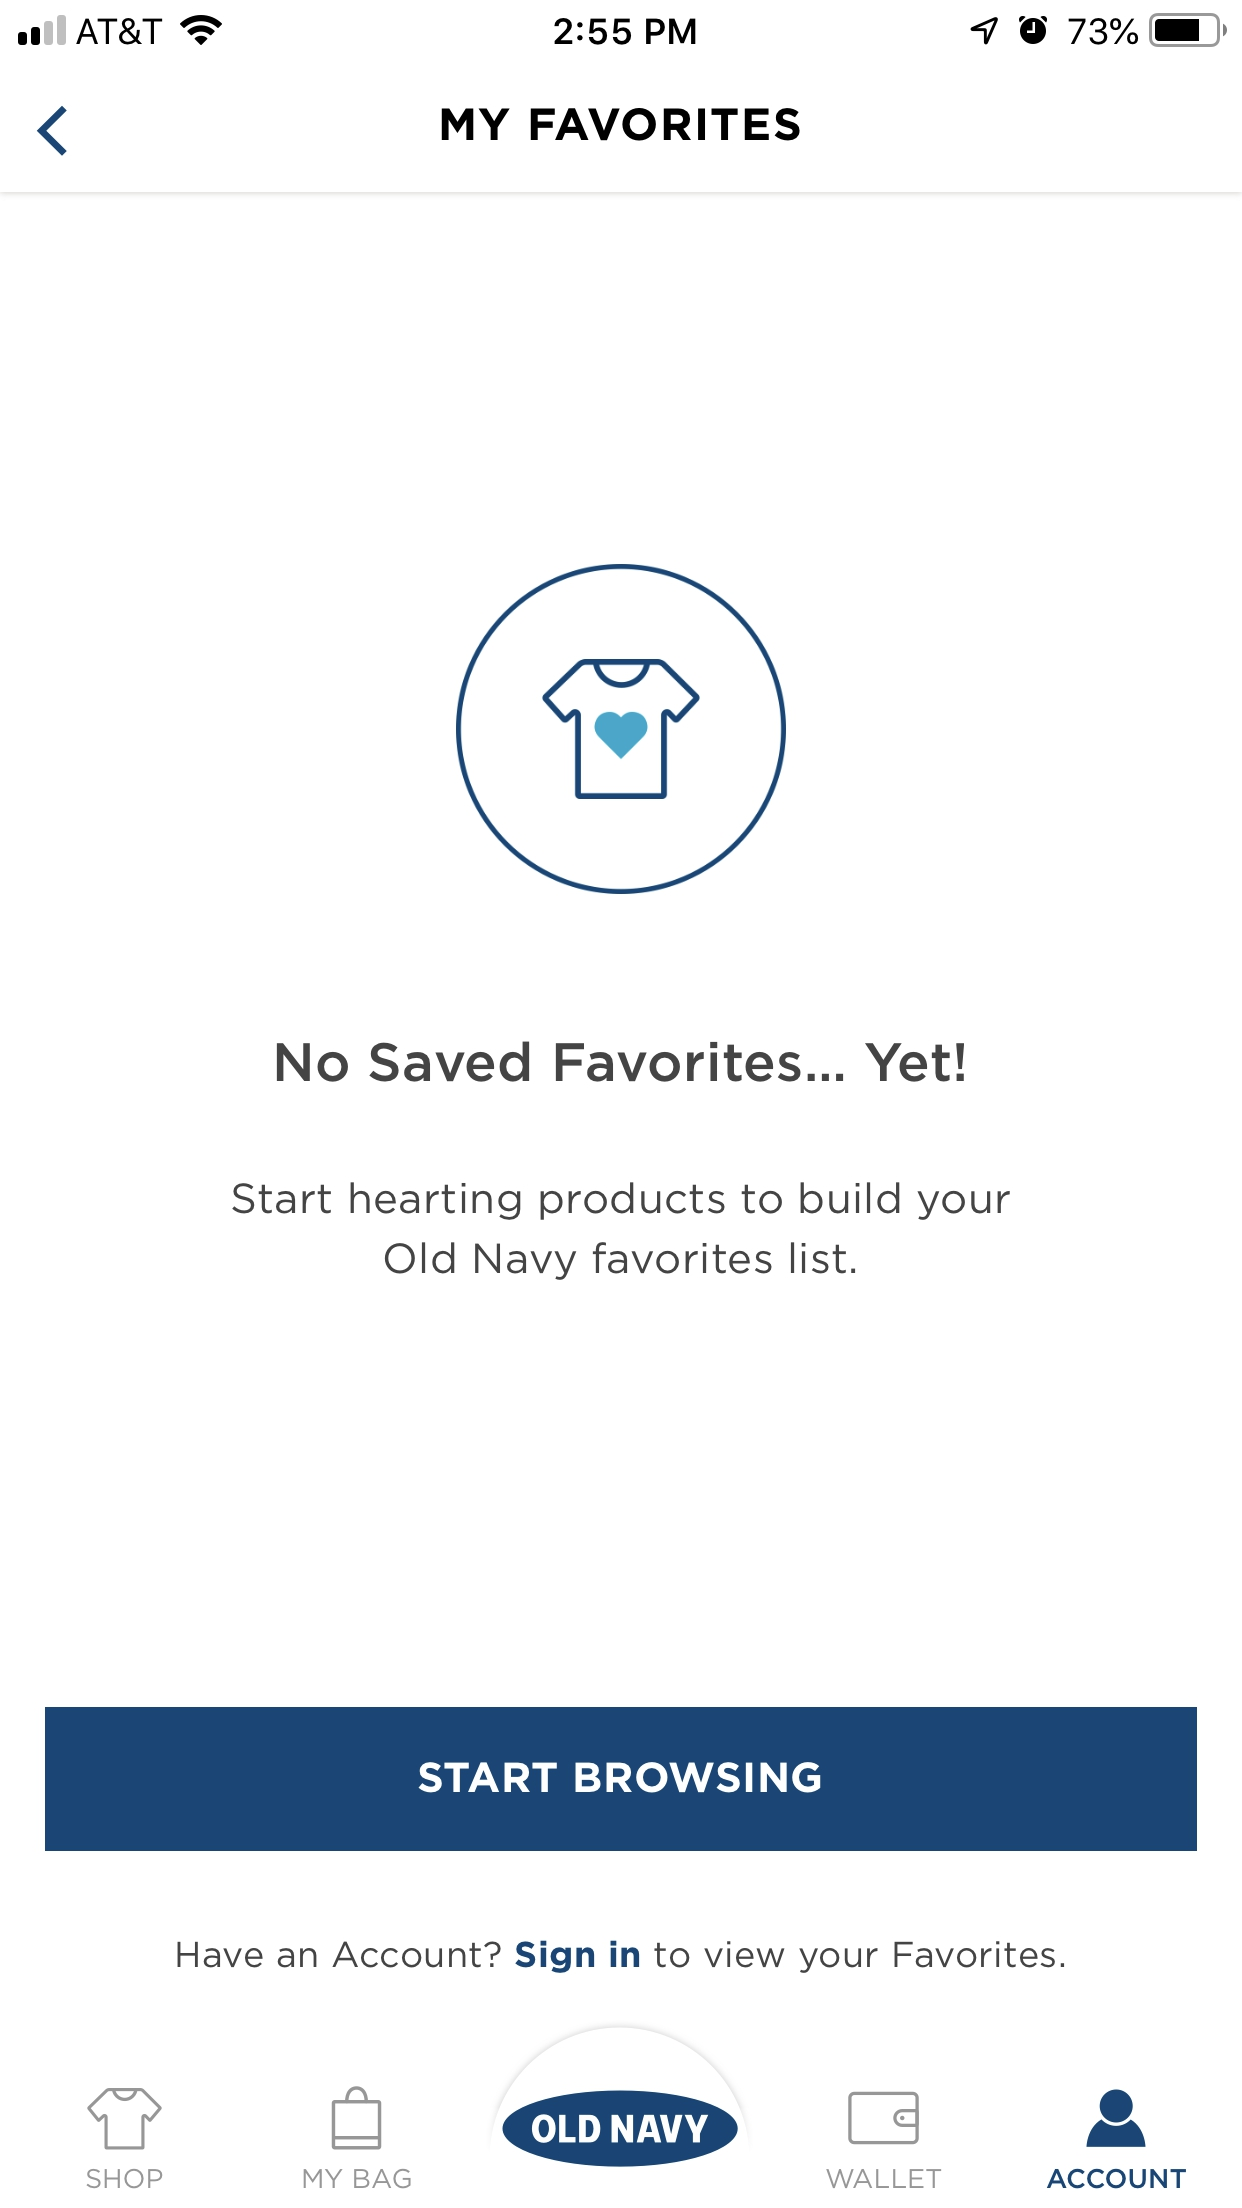Icon: (848, 2090, 921, 2144), (1086, 2088, 1146, 2147), (332, 2085, 384, 2150), (36, 106, 70, 158)
Image: (455, 563, 787, 895), (488, 2026, 754, 2169), (86, 2087, 162, 2150)
Text: (232, 1181, 1011, 1281), (164, 1932, 1065, 1971), (278, 1040, 964, 1083), (441, 108, 801, 143), (1046, 2169, 1187, 2188), (826, 2169, 942, 2188), (303, 2169, 412, 2188), (86, 2169, 164, 2188)
TextButton: (45, 1708, 1198, 1852)
UpperTaskBar: (2, 2, 1242, 49)
